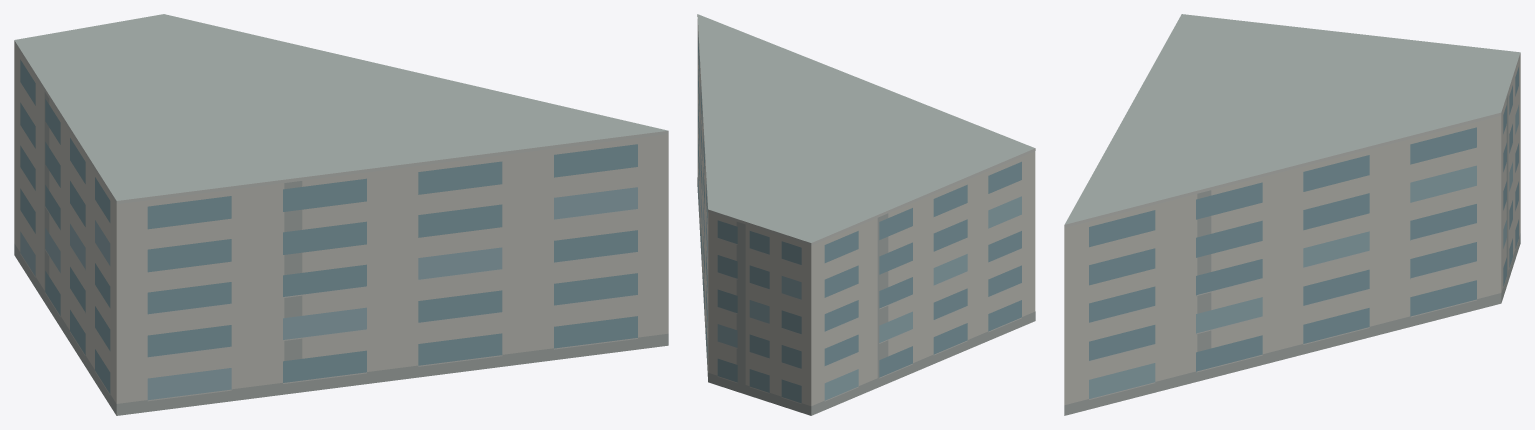
Rendered from survey-upis-32553279.glb.
3 views of the same model, side by side, from view 1: azimuth 30°, elevation 25°; view 2: azimuth 150°, elevation 25°; view 3: azimuth 270°, elevation 25° (orthographic). The views are drawn at different scales.
Visible parts, largest first — view 1: survey-upis-32553279.tmp; view 2: survey-upis-32553279.tmp; view 3: survey-upis-32553279.tmp.
Part boxes in pixels (x1,y1,x2,y2): survey-upis-32553279.tmp: (14,14,668,415); survey-upis-32553279.tmp: (697,14,1035,415); survey-upis-32553279.tmp: (1064,14,1520,415).
Size of the model in its own units: 36.11 by 15.25 by 33.01.
